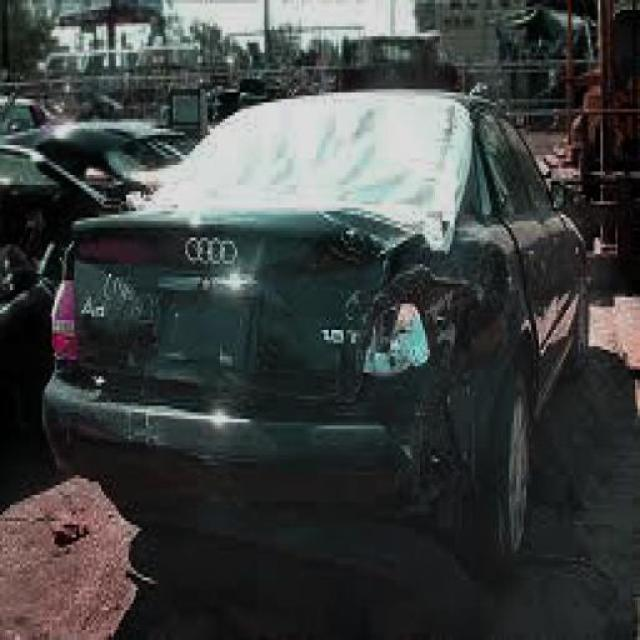car damage: (133, 98, 512, 629)
